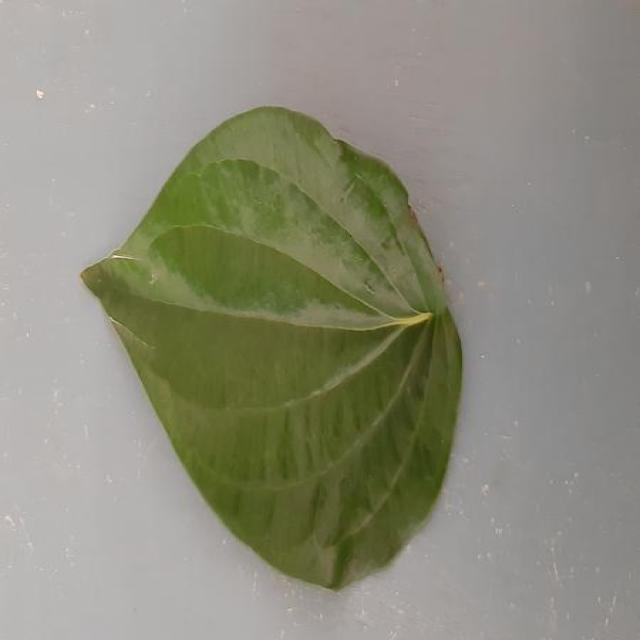betel: (82, 106, 462, 588)
